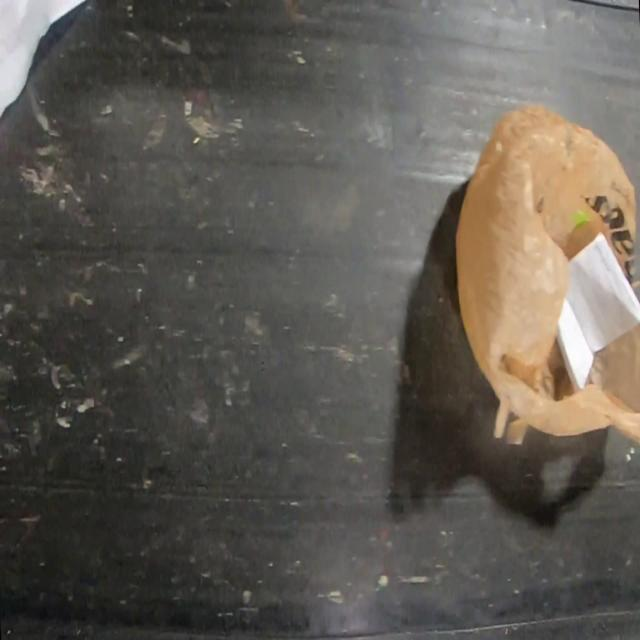soft_plastic: (456, 103, 640, 449)
